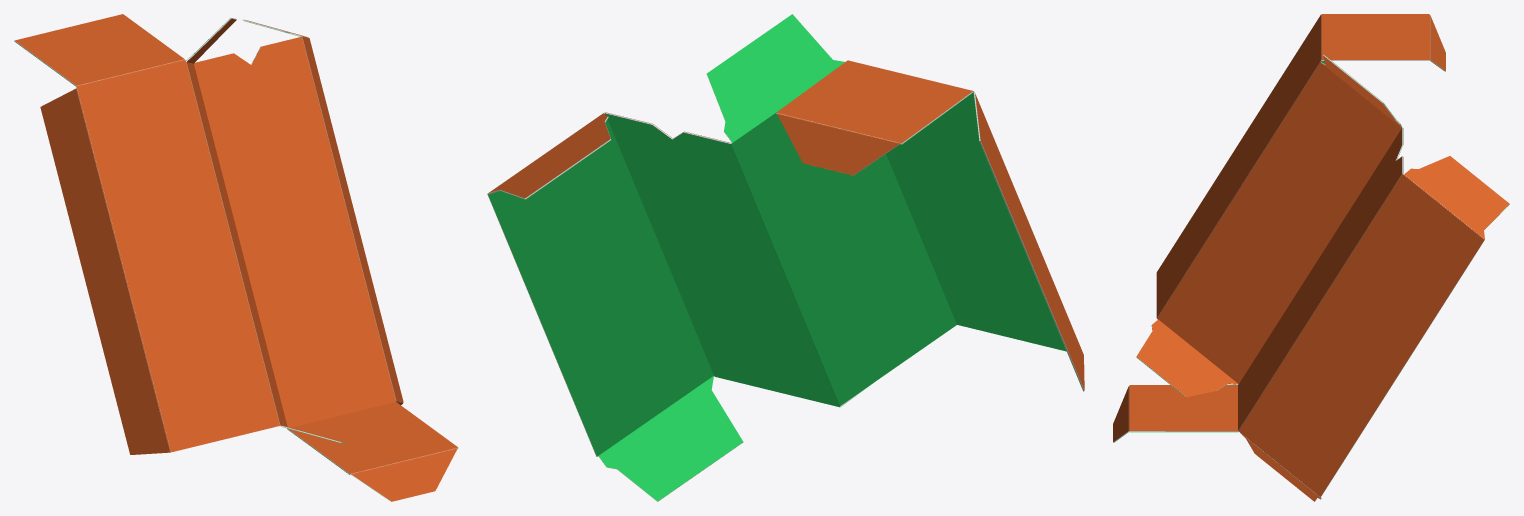
Rendered from glb-activoArte60.glb.
3 views of the same model, side by side, from view 1: azimuth 30°, elevation 25°; view 2: azimuth 150°, elevation 25°; view 3: azimuth 270°, elevation 25° (orthographic). The views are drawn at different scales.
Visible parts, largest first — view 1: mesh_4, mesh_19, mesh_7, mesh_1, mesh_22, mesh_25, mesh_28, mesh_10, foldBridgeTop; view 2: mesh_29, mesh_11, mesh_20, mesh_5, mesh_1, mesh_32, mesh_14, mesh_7, mesh_37, mesh_34; view 3: mesh_28, mesh_10, mesh_4, mesh_19, mesh_1, mesh_22, mesh_34, mesh_16, mesh_31, mesh_13, mesh_37, mesh_25.
Part boxes in pixels (<box>): mesh_4: <box>77,60,279,452</box>; mesh_19: <box>194,36,395,427</box>; mesh_7: <box>40,88,170,454</box>; mesh_1: <box>14,14,184,85</box>; mesh_22: <box>288,402,457,473</box>; mesh_25: <box>352,448,457,501</box>; mesh_28: <box>302,36,403,402</box>; mesh_10: <box>186,62,287,426</box>; foldBridgeTop: <box>76,88,170,452</box>; mesh_29: <box>488,114,713,456</box>; mesh_11: <box>731,113,956,405</box>; mesh_20: <box>605,113,839,407</box>; mesh_5: <box>886,92,1066,351</box>; mesh_1: <box>776,60,972,143</box>; mesh_32: <box>598,376,743,501</box>; mesh_14: <box>706,14,844,142</box>; mesh_7: <box>975,94,1084,390</box>; mesh_37: <box>777,114,898,175</box>; mesh_34: <box>488,113,610,198</box>; mesh_28: <box>1239,174,1483,496</box>; mesh_10: <box>1157,62,1401,383</box>; mesh_4: <box>1156,15,1320,317</box>; mesh_19: <box>1238,128,1402,430</box>; mesh_1: <box>1322,14,1429,59</box>; mesh_22: <box>1129,385,1237,431</box>; mesh_34: <box>1404,156,1509,238</box>; mesh_16: <box>1136,319,1237,396</box>; mesh_31: <box>1240,433,1320,501</box>; mesh_13: <box>1321,55,1400,126</box>; mesh_37: <box>1430,15,1445,70</box>; mesh_25: <box>1113,387,1128,441</box>.
Bounding box in the file's own units: 0.1281 × 0.1602 × 0.1455.
4 materials, 2 textured.
